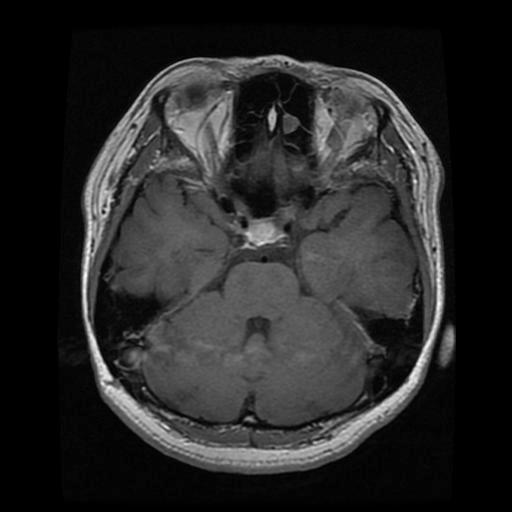Tumour-Pituitary: (227, 215, 301, 256)
